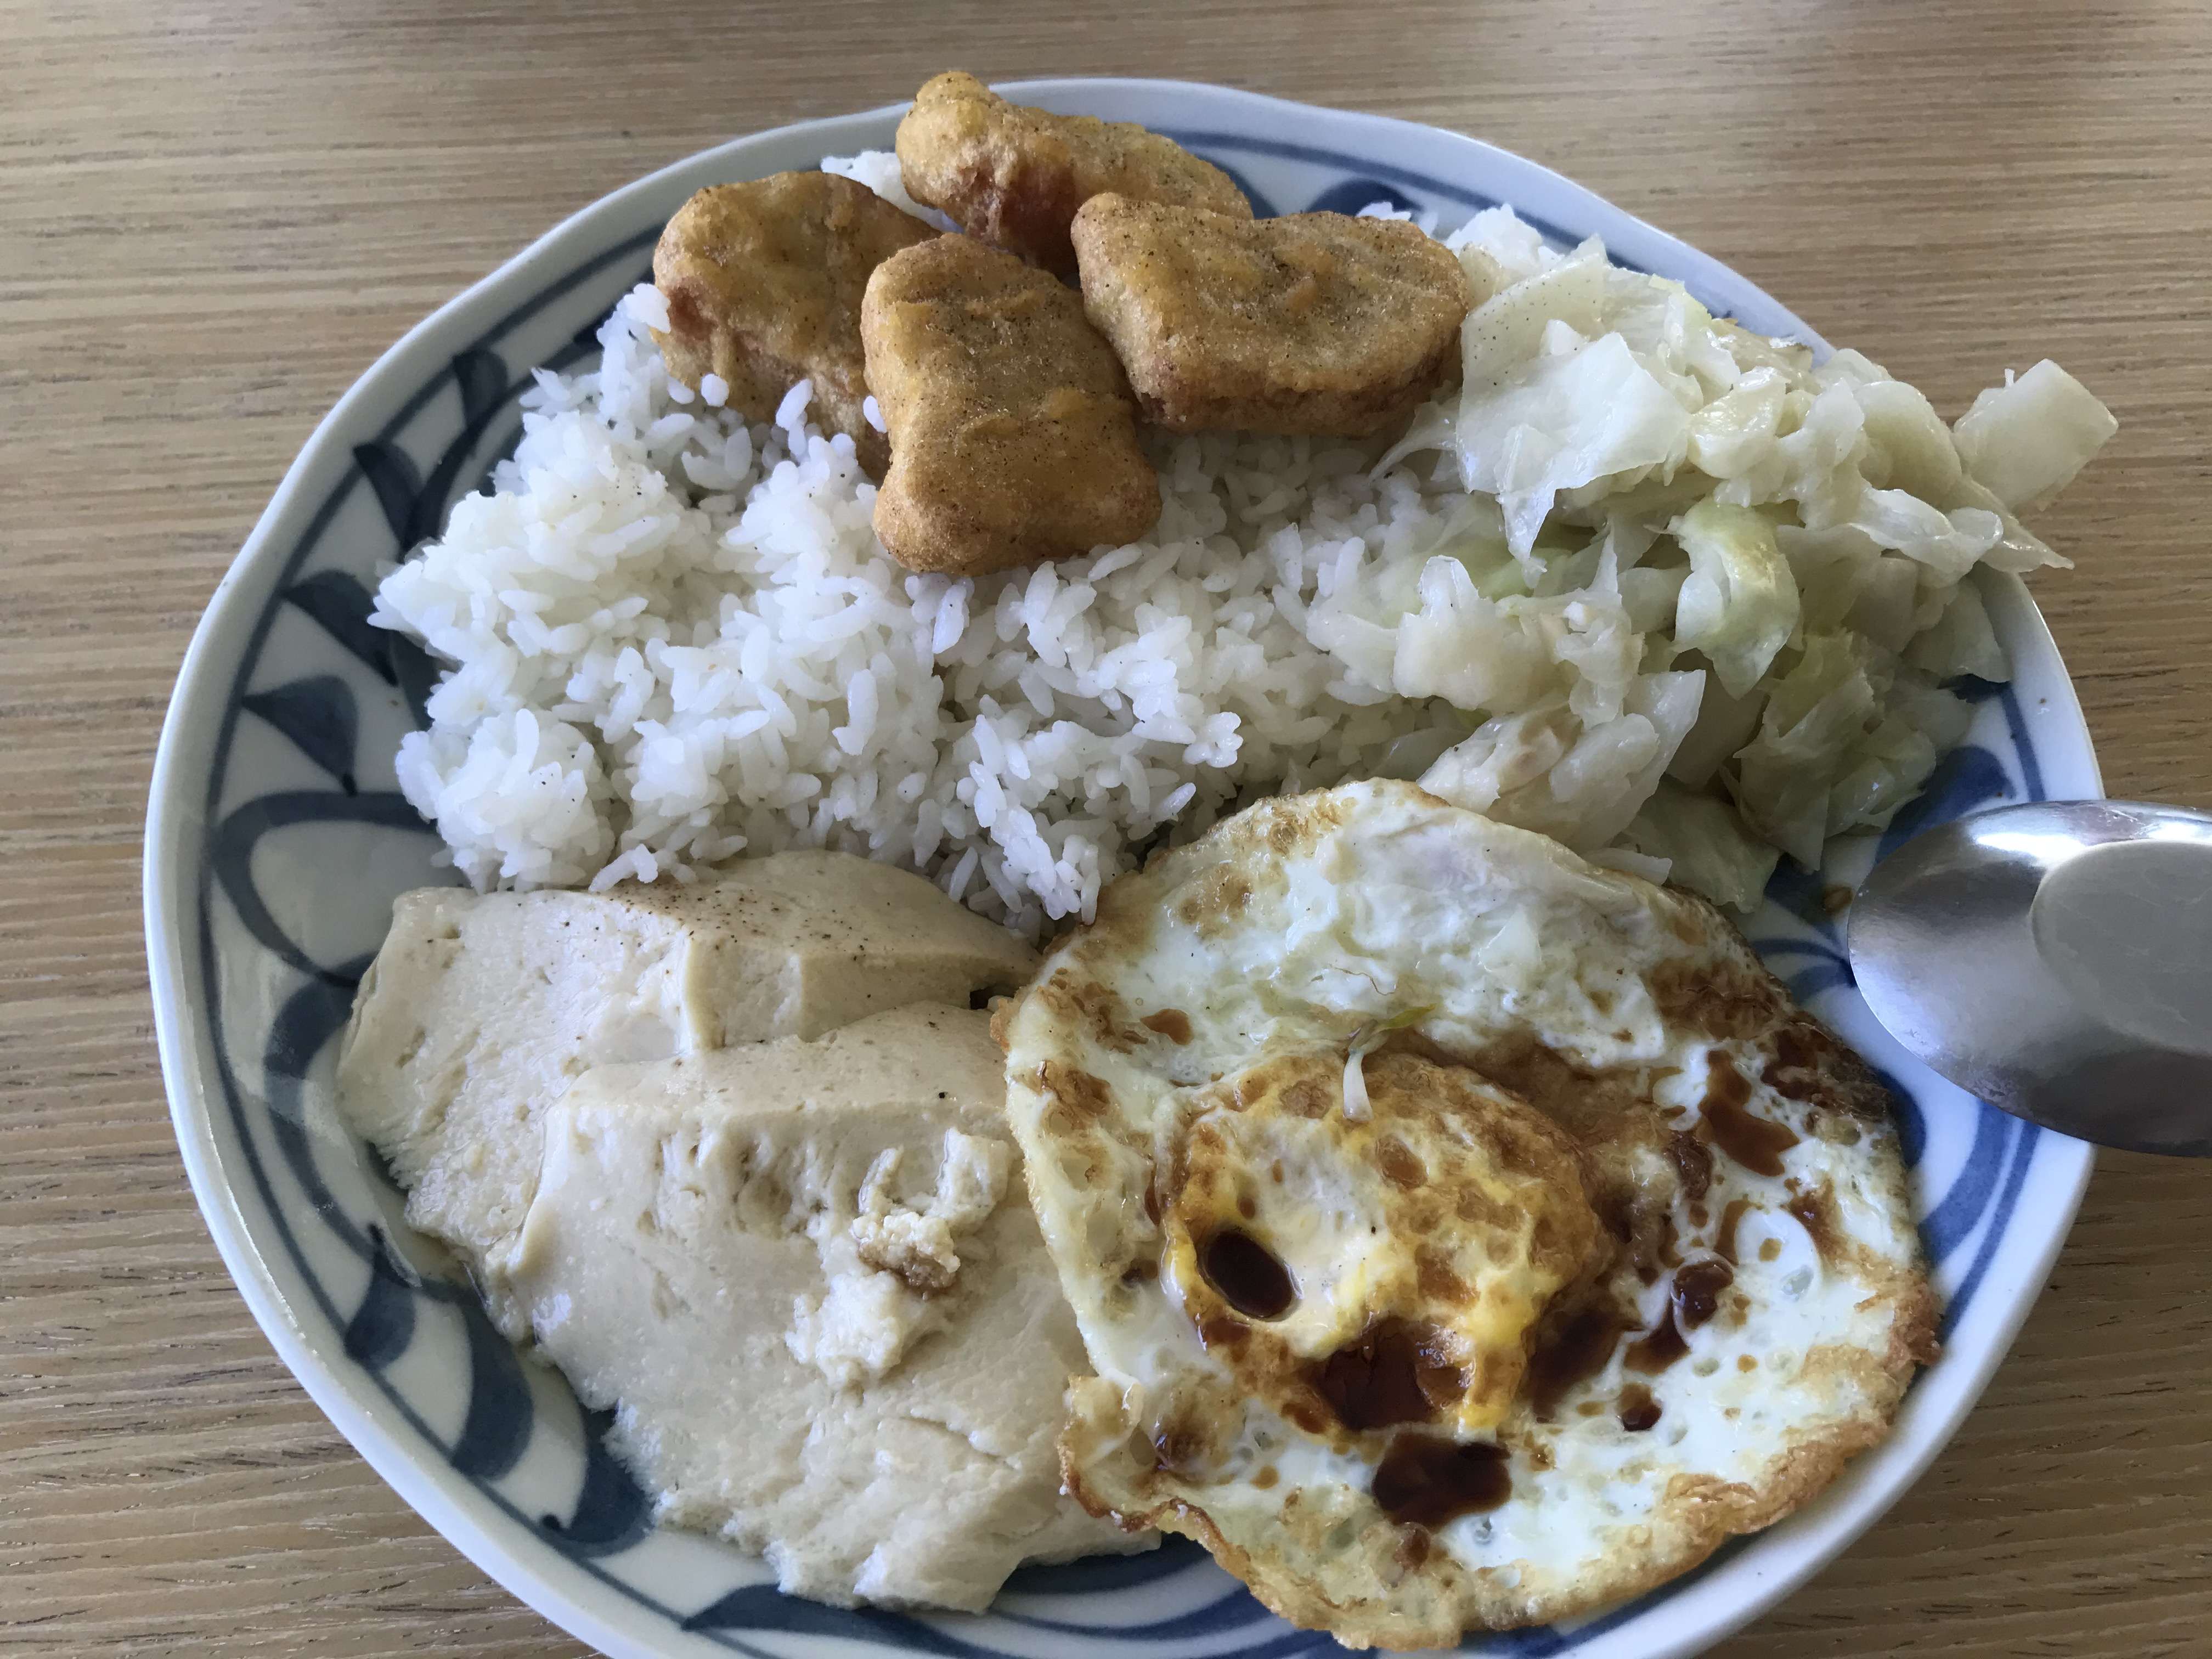chicken_nuggets: (655, 70, 1460, 570)
chinese_cabbage: (1467, 310, 2015, 856)
fried_eggs: (1008, 782, 1935, 1647)
rice: (435, 490, 1463, 884)
